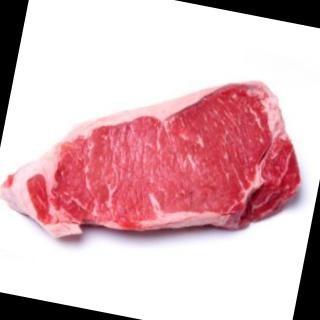Daging Sapi: (1, 38, 317, 282)
